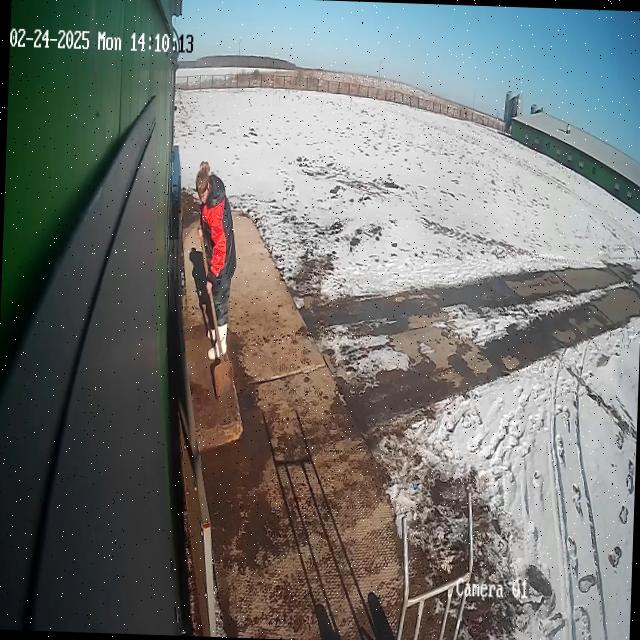Red uniform: (186, 158, 242, 362)
